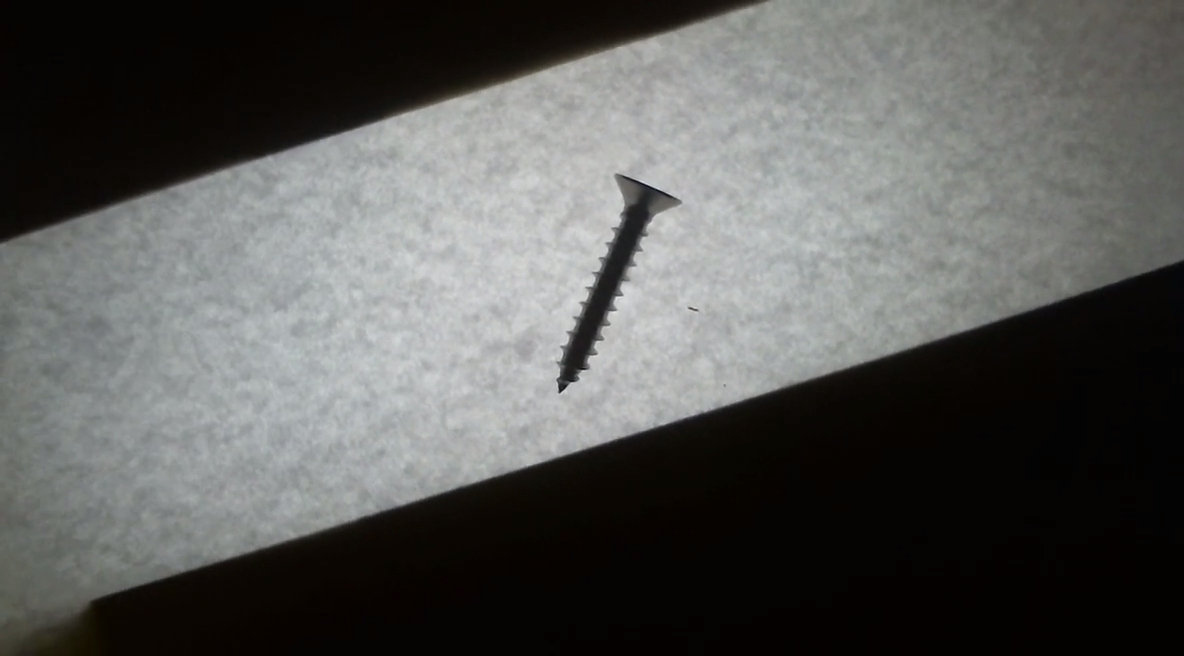S001: (542, 156, 696, 405)
